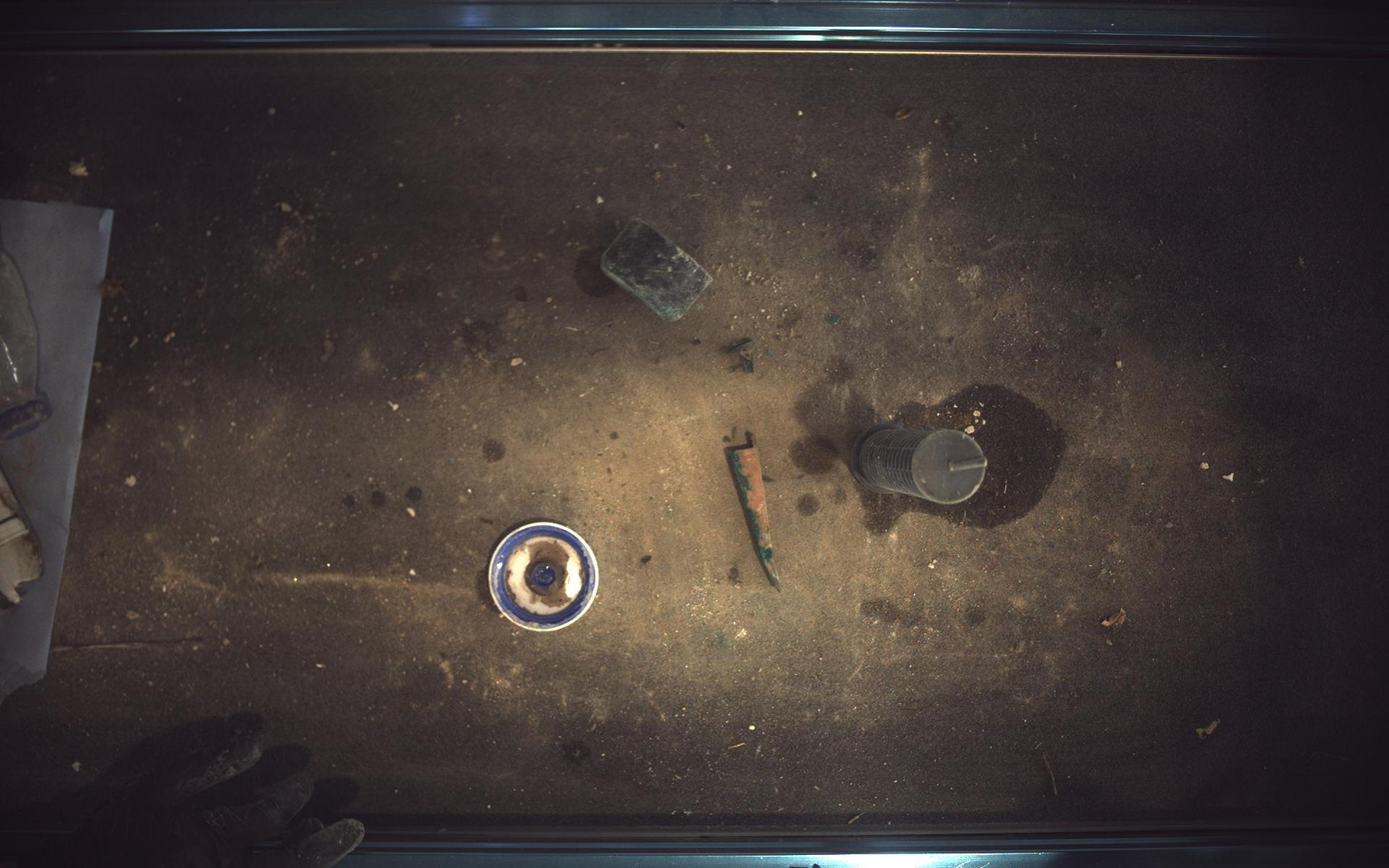general_w: (488, 522, 599, 632)
plastic: (602, 218, 713, 321), (852, 424, 990, 505), (726, 431, 783, 592)
